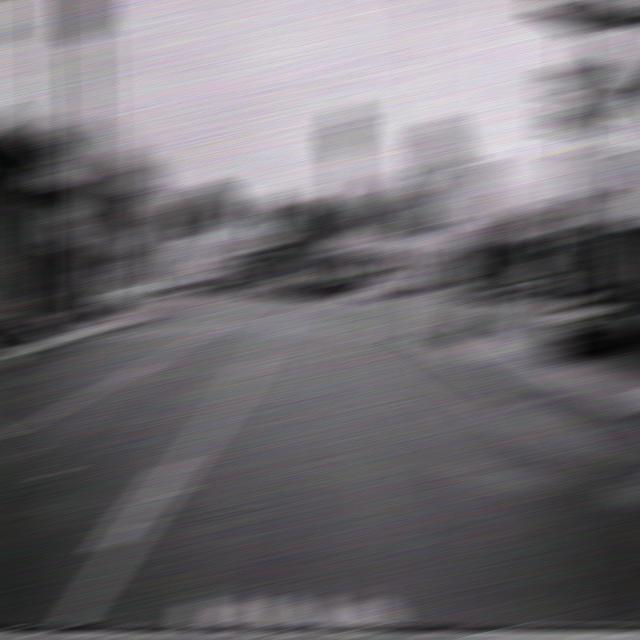pedestrianCrossing: (408, 192, 441, 220)
